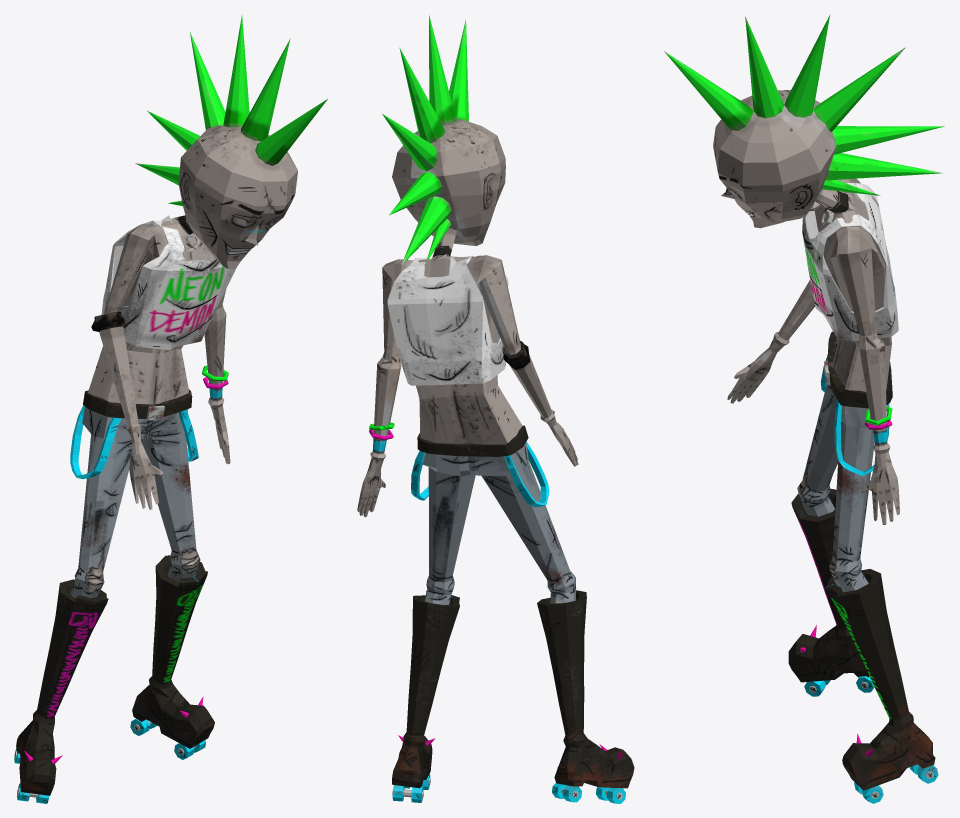
The model's file is punkAnimation_000156.obj.
3 views of the same model, side by side, from view 1: azimuth 30°, elevation 25°; view 2: azimuth 150°, elevation 25°; view 3: azimuth 270°, elevation 25° (orthographic). The views are drawn at different scales.
Parts seen in each view (by area): view 1: Cube.004_Cube.003; view 2: Cube.004_Cube.003; view 3: Cube.004_Cube.003.
Part boxes in pixels (<box>): Cube.004_Cube.003: <box>14,15,327,803</box>; Cube.004_Cube.003: <box>357,15,634,803</box>; Cube.004_Cube.003: <box>664,14,944,803</box>.
Bounding box in the file's own units: 2.6 × 7.37 × 2.34.
